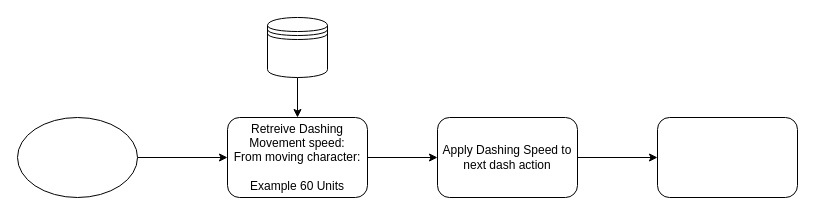
Image size: 815x215. Some labels were removed from this diagram. Here are the shapes that lost their labels. From the top down, the centre of each, then its label:
At [77,157]: "Start Dash Subprocess".
At [727,157]: "End Dash Subprocess".
